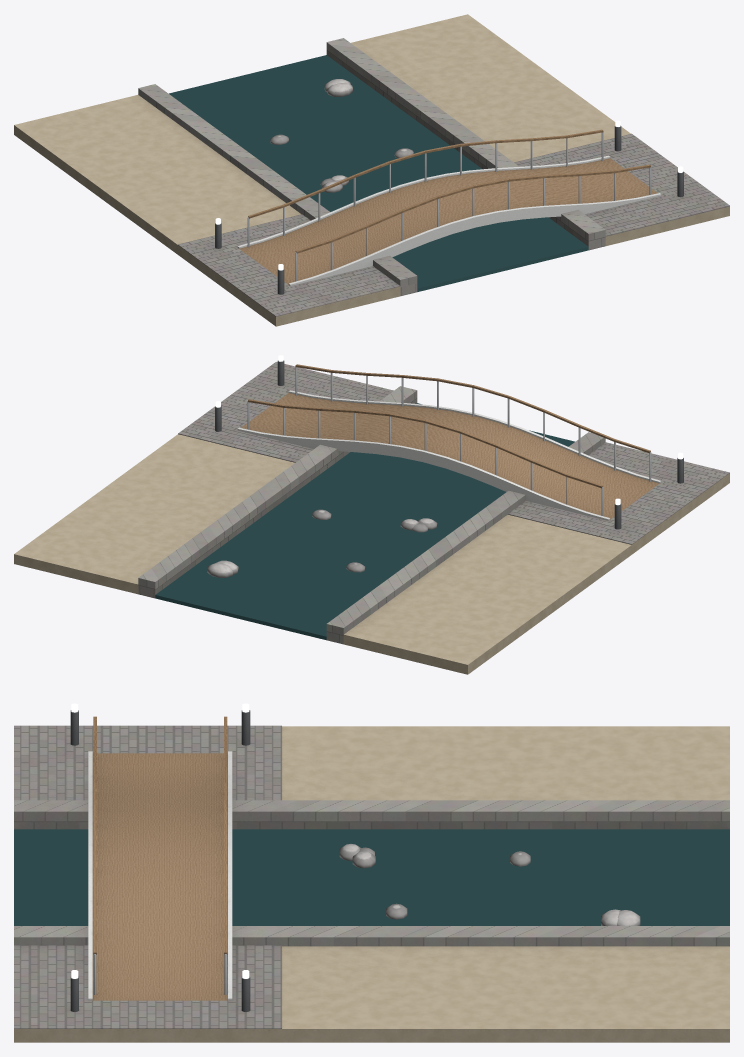
Rendered from IlsanStreamBridge.fbx.
3 renders of one model, top to bottom at view 1: azimuth 30°, elevation 25°; view 2: azimuth 150°, elevation 25°; view 3: azimuth 270°, elevation 25°, orthographic. The views are drawn at different scales.
Parts seen in each view (by area): view 1: IlsanStreamBridge; view 2: IlsanStreamBridge; view 3: IlsanStreamBridge.
Part boxes in pixels (<box>): IlsanStreamBridge: <box>14,14,729,326</box>; IlsanStreamBridge: <box>14,355,729,674</box>; IlsanStreamBridge: <box>14,703,729,1042</box>.
Bounding box in the file's own units: 15.9 × 2.13 × 15.9.
1 material, 1 textured.
